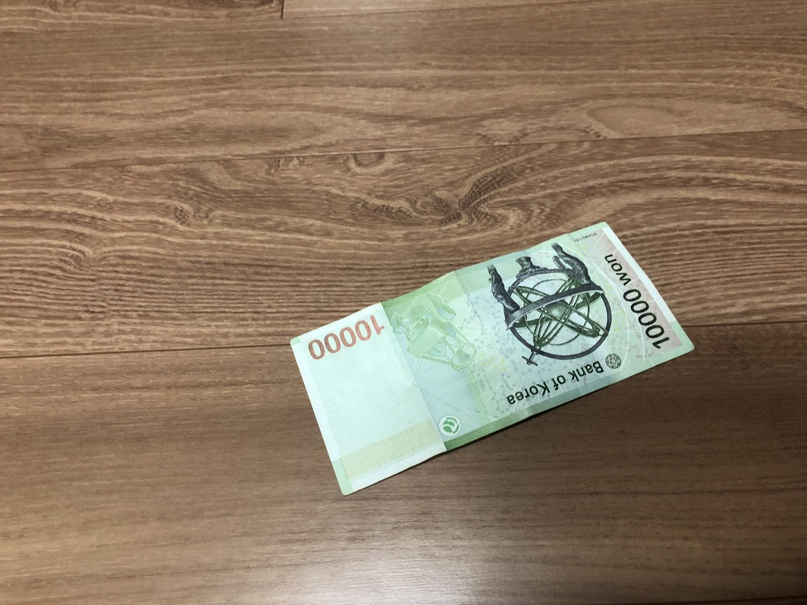10000won: (289, 219, 695, 498)
